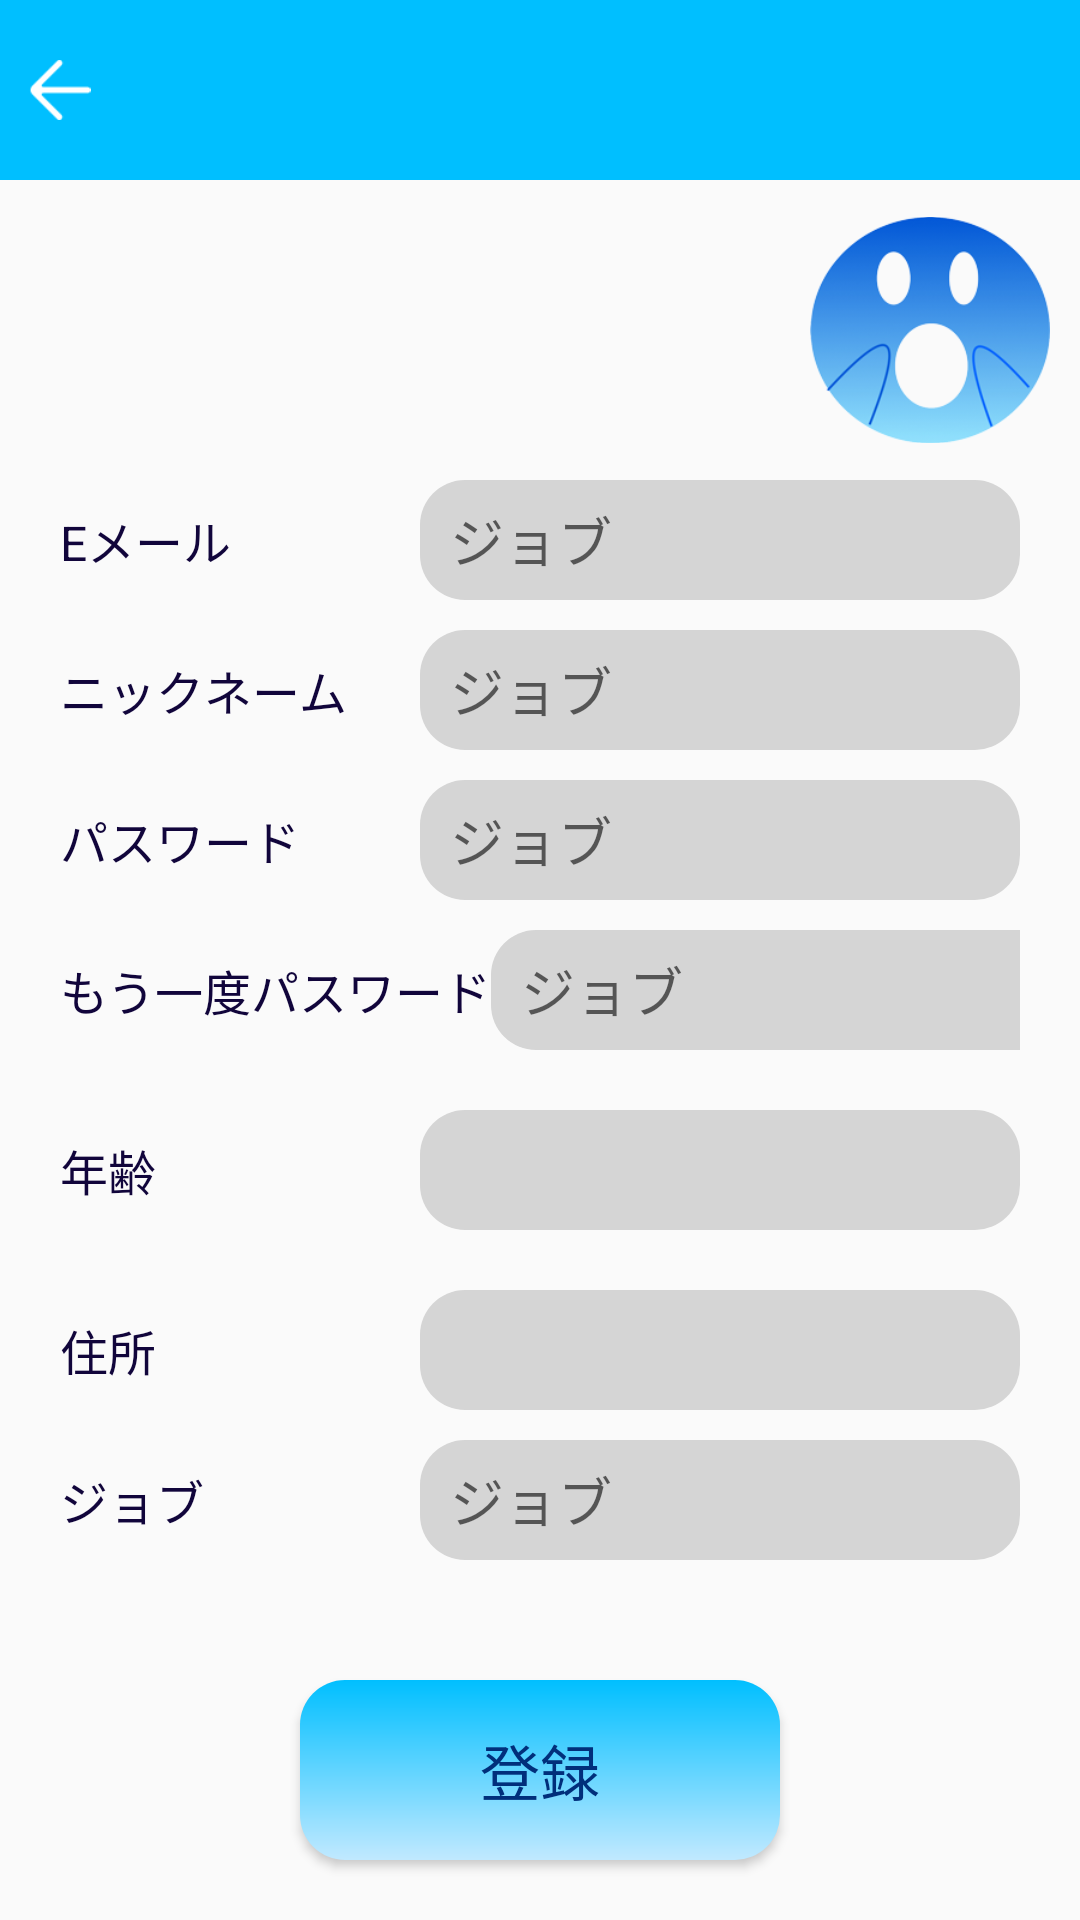

Screen size 1080*1920. Icon name, then its box in pixels as (x1, y1, x2, y2):
back: (30, 60, 91, 120)
